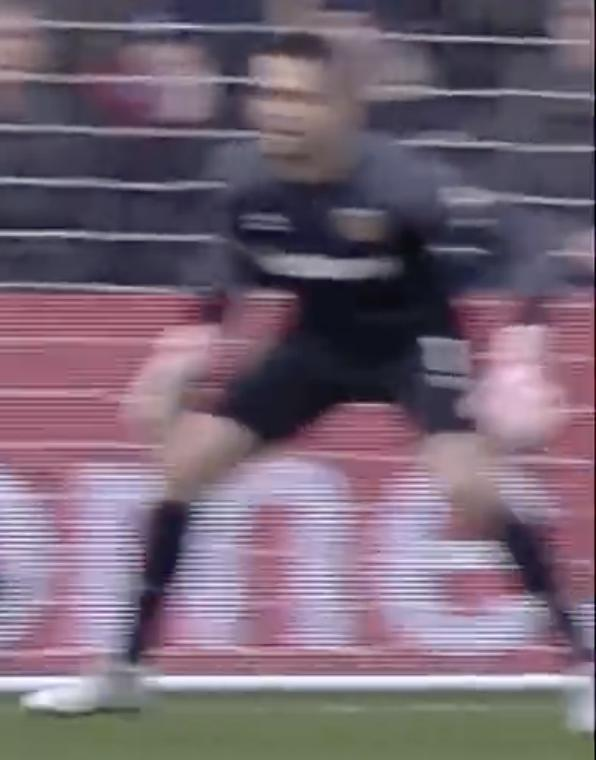goalkeeper: (22, 4, 596, 760)
